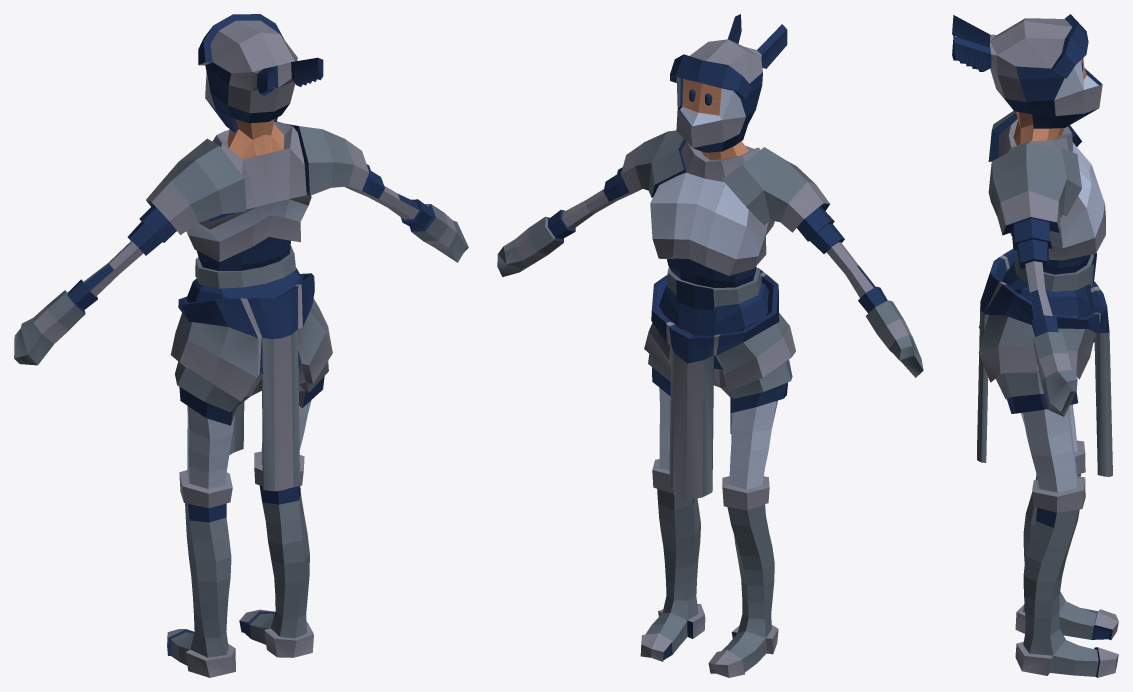
Rendered from Character.fbx.
3 views of the same model, side by side, from view 1: azimuth 30°, elevation 25°; view 2: azimuth 150°, elevation 25°; view 3: azimuth 270°, elevation 25° (orthographic). The views are drawn at different scales.
Parts seen in each view (by area): view 1: startupCHARPLSFlat1:Mesh; view 2: startupCHARPLSFlat1:Mesh; view 3: startupCHARPLSFlat1:Mesh.
Part boxes in pixels (box(x1,y1,x2,y2)): startupCHARPLSFlat1:Mesh: box(14, 14, 468, 677); startupCHARPLSFlat1:Mesh: box(497, 14, 923, 677); startupCHARPLSFlat1:Mesh: box(952, 14, 1118, 677).
Size of the model in its own units: 1.4 by 1.88 by 0.4488.
